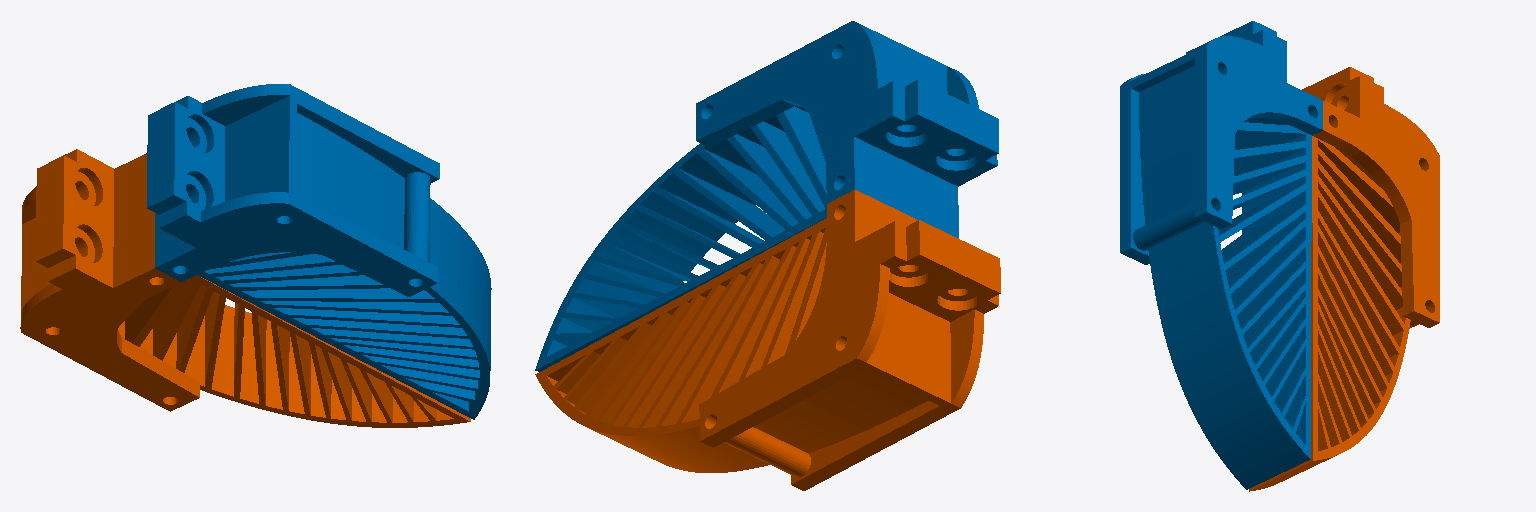
The robot description file, URDF, robot "fr3":
<?xml version="1.0" ?>
<!-- =================================================================================== -->
<!-- |    This document was autogenerated by xacro from /workspaces/src/./franka_description_fr3/robots/fr3/fr3.urdf.xacro | -->
<!-- |    EDITING THIS FILE BY HAND IS NOT RECOMMENDED                                 | -->
<!-- =================================================================================== -->
<robot name="fr3">
  <!-- safety_distance: Minimum safety distance in [m] by which the collision volumes are expanded and which is enforced during robot motions -->
  <!-- arm_id: Namespace of the robot arm. Serves to differentiate between arms in case of multiple instances. -->
  <!-- joint_limits: description of the joint limits that comes from a YAML file. Example definition: ${xacro.load_yaml('$(find ./franka_description_fr3)/robots/fr3/joint_limits.yaml')} -->
  <!-- kinematics: description of the kinematics that comes from a YAML file. Example definition: ${xacro.load_yaml('$(find ./franka_description_fr3)/robots/fr3/kinematics.yaml')} -->
  <!-- inertials: description of the inertials that comes from a YAML file. Example definition: ${xacro.load_yaml('$(find ./franka_description_fr3)/robots/fr3/inertials.yaml')} -->
  <!-- dynamics: description of the dynamics that comes from a YAML file. Example definition: ${xacro.load_yaml('$(find ./franka_description_fr3)/robots/fr3/dynamics.yaml')} -->
  <link name="base">
      </link>
  <joint name="base_joint" type="fixed">
    <parent link="base"/>
    <child link="fr3_link0"/>
    <origin rpy="0 0 0" xyz="0 0 0"/>
  </joint>
  <!-- sub-link defining detailed meshes for collision with environment -->
  <link name="fr3_link0">
    <visual name="fr3_link0_visual">
      <geometry>
        <mesh filename="./franka_description_fr3/meshes/robot_arms/fr3/visual/link0.dae"/>
      </geometry>
    </visual>
    <collision name="fr3_link0_collision">
      <geometry>
        <mesh filename="./franka_description_fr3/meshes/robot_arms/fr3/collision/link0.stl"/>
      </geometry>
    </collision>
    <inertial>
      <origin rpy="0 0 0" xyz="-0.0172 0.0004 0.0745"/>
      <mass value="2.3966"/>
      <inertia ixx="0.009" ixy="0.0" ixz="0.002" iyy="0.0115" iyz="0.0" izz="0.0085"/>
    </inertial>
  </link>
  <!-- sub-link defining detailed meshes for collision with environment -->
  <link name="fr3_link1">
    <visual name="fr3_link1_visual">
      <geometry>
        <mesh filename="./franka_description_fr3/meshes/robot_arms/fr3/visual/link1.dae"/>
      </geometry>
    </visual>
    <collision name="fr3_link1_collision">
      <geometry>
        <mesh filename="./franka_description_fr3/meshes/robot_arms/fr3/collision/link1.stl"/>
      </geometry>
    </collision>
    <inertial>
      <origin rpy="0 0 0" xyz="0.0000004128 -0.0181251324 -0.0386035970"/>
      <mass value="2.9274653454"/>
      <inertia ixx="0.023927316485107913" ixy="1.3317903455714081e-05" ixz="-0.00011404774918616684" iyy="0.0224821613275756" iyz="-0.0019950320628240115" izz="0.006350098258530016"/>
    </inertial>
  </link>
  <joint name="fr3_joint1" type="revolute">
    <origin rpy="0 0 0" xyz="0 0 0.333"/>
    <parent link="fr3_link0"/>
    <child link="fr3_link1"/>
    <axis xyz="0 0 1"/>
    <limit effort="87.0" lower="-2.7437" upper="2.7437" velocity="2.62"/>
    <safety_controller k_position="100.0" k_velocity="40.0" soft_lower_limit="-2.7437" soft_upper_limit="2.7437"/>
    <dynamics D="1" K="7000" damping="0.003" friction="0.2" mu_coulomb="0" mu_viscous="16"/>
  </joint>
  <!-- sub-link defining detailed meshes for collision with environment -->
  <link name="fr3_link2">
    <visual name="fr3_link2_visual">
      <geometry>
        <mesh filename="./franka_description_fr3/meshes/robot_arms/fr3/visual/link2.dae"/>
      </geometry>
    </visual>
    <collision name="fr3_link2_collision">
      <geometry>
        <mesh filename="./franka_description_fr3/meshes/robot_arms/fr3/collision/link2.stl"/>
      </geometry>
    </collision>
    <inertial>
      <origin rpy="0 0 0" xyz="0.0031828864 -0.0743221644 0.0088146084"/>
      <mass value="2.9355370338"/>
      <inertia ixx="0.041938946257609425" ixy="0.00020257331521090626" ixz="0.004077784227179924" iyy="0.02514514885014724" iyz="-0.0042252158006570156" izz="0.06170214472888839"/>
    </inertial>
  </link>
  <joint name="fr3_joint2" type="revolute">
    <origin rpy="-1.570796326794897 0 0" xyz="0 0 0"/>
    <parent link="fr3_link1"/>
    <child link="fr3_link2"/>
    <axis xyz="0 0 1"/>
    <limit effort="87.0" lower="-1.7837" upper="1.7837" velocity="2.62"/>
    <safety_controller k_position="100.0" k_velocity="40.0" soft_lower_limit="-1.7837" soft_upper_limit="1.7837"/>
    <dynamics D="1" K="7000" damping="0.003" friction="0.2" mu_coulomb="0" mu_viscous="16"/>
  </joint>
  <!-- sub-link defining detailed meshes for collision with environment -->
  <link name="fr3_link3">
    <visual name="fr3_link3_visual">
      <geometry>
        <mesh filename="./franka_description_fr3/meshes/robot_arms/fr3/visual/link3.dae"/>
      </geometry>
    </visual>
    <collision name="fr3_link3_collision">
      <geometry>
        <mesh filename="./franka_description_fr3/meshes/robot_arms/fr3/collision/link3.stl"/>
      </geometry>
    </collision>
    <inertial>
      <origin rpy="0 0 0" xyz="0.0407015686 -0.0048200565 -0.0289730823"/>
      <mass value="2.2449013699"/>
      <inertia ixx="0.02410142547240885" ixy="0.002404694559042109" ixz="-0.002856269270114313" iyy="0.01974053266708178" iyz="-0.002104212683891874" izz="0.019044494482244823"/>
    </inertial>
  </link>
  <joint name="fr3_joint3" type="revolute">
    <origin rpy="1.570796326794897 0 0" xyz="0 -0.316 0"/>
    <parent link="fr3_link2"/>
    <child link="fr3_link3"/>
    <axis xyz="0 0 1"/>
    <limit effort="87.0" lower="-2.9007" upper="2.9007" velocity="2.62"/>
    <safety_controller k_position="100.0" k_velocity="40.0" soft_lower_limit="-2.9007" soft_upper_limit="2.9007"/>
    <dynamics D="1" K="7000" damping="0.003" friction="0.2" mu_coulomb="0" mu_viscous="16"/>
  </joint>
  <!-- sub-link defining detailed meshes for collision with environment -->
  <link name="fr3_link4">
    <visual name="fr3_link4_visual">
      <geometry>
        <mesh filename="./franka_description_fr3/meshes/robot_arms/fr3/visual/link4.dae"/>
      </geometry>
    </visual>
    <collision name="fr3_link4_collision">
      <geometry>
        <mesh filename="./franka_description_fr3/meshes/robot_arms/fr3/collision/link4.stl"/>
      </geometry>
    </collision>
    <inertial>
      <origin rpy="0 0 0" xyz="-0.0459100965 0.0630492960 -0.0085187868"/>
      <mass value="2.6155955791"/>
      <inertia ixx="0.03452998321913202" ixy="0.01322552265982813" ixz="0.01015142998484113" iyy="0.028881621933049058" iyz="-0.0009762833870704552" izz="0.04125471171146641"/>
    </inertial>
  </link>
  <joint name="fr3_joint4" type="revolute">
    <origin rpy="1.570796326794897 0 0" xyz="0.0825 0 0"/>
    <parent link="fr3_link3"/>
    <child link="fr3_link4"/>
    <axis xyz="0 0 1"/>
    <limit effort="87.0" lower="-3.0421" upper="-0.1518" velocity="2.62"/>
    <safety_controller k_position="100.0" k_velocity="40.0" soft_lower_limit="-3.0421" soft_upper_limit="-0.1518"/>
    <dynamics D="1" K="7000" damping="0.003" friction="0.2" mu_coulomb="0" mu_viscous="16"/>
  </joint>
  <!-- sub-link defining detailed meshes for collision with environment -->
  <link name="fr3_link5">
    <visual name="fr3_link5_visual">
      <geometry>
        <mesh filename="./franka_description_fr3/meshes/robot_arms/fr3/visual/link5.dae"/>
      </geometry>
    </visual>
    <collision name="fr3_link5_collision">
      <geometry>
        <mesh filename="./franka_description_fr3/meshes/robot_arms/fr3/collision/link5.stl"/>
      </geometry>
    </collision>
    <inertial>
      <origin rpy="0 0 0" xyz="-0.0016039605 0.0292536262 -0.0972965990"/>
      <mass value="2.3271207594"/>
      <inertia ixx="0.051610278463662895" ixy="-0.005715173387783472" ixz="-0.0035673167625872135" iyy="0.04787729713371481" iyz="0.010673985108535986" izz="0.016423625579357254"/>
    </inertial>
  </link>
  <joint name="fr3_joint5" type="revolute">
    <origin rpy="-1.570796326794897 0 0" xyz="-0.0825 0.384 0"/>
    <parent link="fr3_link4"/>
    <child link="fr3_link5"/>
    <axis xyz="0 0 1"/>
    <limit effort="12.0" lower="-2.8065" upper="2.8065" velocity="5.26"/>
    <safety_controller k_position="100.0" k_velocity="40.0" soft_lower_limit="-2.8065" soft_upper_limit="2.8065"/>
    <dynamics D="1" K="7000" damping="0.003" friction="0.2" mu_coulomb="0" mu_viscous="16"/>
  </joint>
  <!-- sub-link defining detailed meshes for collision with environment -->
  <link name="fr3_link6">
    <visual name="fr3_link6_visual">
      <geometry>
        <mesh filename="./franka_description_fr3/meshes/robot_arms/fr3/visual/link6.dae"/>
      </geometry>
    </visual>
    <collision name="fr3_link6_collision">
      <geometry>
        <mesh filename="./franka_description_fr3/meshes/robot_arms/fr3/collision/link6.stl"/>
      </geometry>
    </collision>
    <inertial>
      <origin rpy="0 0 0" xyz="0.0597131221 -0.0410294666 -0.0101692726"/>
      <mass value="1.8170376524"/>
      <inertia ixx="0.005412333594383447" ixy="0.006193456360285834" ixz="0.0014219289306117652" iyy="0.014058329545509979" iyz="-0.0013140753741120031" izz="0.016080817924212554"/>
    </inertial>
  </link>
  <joint name="fr3_joint6" type="revolute">
    <origin rpy="1.570796326794897 0 0" xyz="0 0 0"/>
    <parent link="fr3_link5"/>
    <child link="fr3_link6"/>
    <axis xyz="0 0 1"/>
    <limit effort="12.0" lower="0.5445" upper="4.5169" velocity="4.18"/>
    <safety_controller k_position="100.0" k_velocity="40.0" soft_lower_limit="0.5445" soft_upper_limit="4.5169"/>
    <dynamics D="1" K="7000" damping="0.003" friction="0.2" mu_coulomb="0" mu_viscous="16"/>
  </joint>
  <!-- sub-link defining detailed meshes for collision with environment -->
  <link name="fr3_link7">
    <visual name="fr3_link7_visual">
      <geometry>
        <mesh filename="./franka_description_fr3/meshes/robot_arms/fr3/visual/link7.dae"/>
      </geometry>
    </visual>
    <collision name="fr3_link7_collision">
      <geometry>
        <mesh filename="./franka_description_fr3/meshes/robot_arms/fr3/collision/link7.stl"/>
      </geometry>
    </collision>
    <inertial>
      <origin rpy="0 0 0" xyz="0.0045225817 0.0086261921 -0.0161633251"/>
      <mass value="0.6271432862"/>
      <inertia ixx="0.00021092389150104718" ixy="-2.433299114461931e-05" ixz="4.564480393778983e-05" iyy="0.00017718568002411474" iyz="8.744070223226438e-05" izz="5.993190599659971e-05"/>
    </inertial>
  </link>
  <joint name="fr3_joint7" type="revolute">
    <origin rpy="1.570796326794897 0 0" xyz="0.088 0 0"/>
    <parent link="fr3_link6"/>
    <child link="fr3_link7"/>
    <axis xyz="0 0 1"/>
    <limit effort="12.0" lower="-3.0159" upper="3.0159" velocity="5.26"/>
    <safety_controller k_position="100.0" k_velocity="40.0" soft_lower_limit="-3.0159" soft_upper_limit="3.0159"/>
    <dynamics D="1" K="7000" damping="0.003" friction="0.2" mu_coulomb="0" mu_viscous="16"/>
  </joint>
  <link name="fr3_link8"/>
  <joint name="fr3_joint8" type="fixed">
    <origin rpy="0 0 0" xyz="0 0 0.107"/>
    <parent link="fr3_link7"/>
    <child link="fr3_link8"/>
  </joint>
  <joint name="fr3_hand_joint" type="fixed">
    <parent link="fr3_link8"/>
    <child link="fr3_hand"/>
    <origin rpy="0 0 -0.7853981633974483" xyz="0 0 0"/>
  </joint>
  <!-- sub-link defining detailed meshes for collision with environment -->
  <link name="fr3_hand">
    <visual name="fr3_hand_visual">
      <geometry>
        <mesh filename="./franka_description_fr3/meshes/robot_ee/franka_hand_white/visual/hand.dae"/>
      </geometry>
    </visual>
    <collision name="fr3_hand_collision">
      <geometry>
        <mesh filename="./franka_description_fr3/meshes/robot_ee/franka_hand_white/collision/hand.stl"/>
      </geometry>
    </collision>
    <inertial>
      <origin rpy="0 0 0" xyz="-0.01 0 0.03"/>
      <mass value="0.73"/>
      <inertia ixx="0.001" ixy="0" ixz="0" iyy="0.0025" iyz="0" izz="0.0017"/>
    </inertial>
  </link>
  <!-- Define the hand_tcp frame -->
  <link name="fr3_hand_tcp"/>
  <joint name="fr3_hand_tcp_joint" type="fixed">
    <origin rpy="0 0 0" xyz="0 0 0.1034"/>
    <parent link="fr3_hand"/>
    <child link="fr3_hand_tcp"/>
  </joint>
  <link name="fr3_leftfinger">
    <visual name="fr3_leftfinger_visual">
      <geometry>
        <mesh filename="./franka_description_fr3/meshes/visual/umi_finger_short.stl"/>
      </geometry>
    </visual>
    <collision>
      <geometry>
        <mesh filename="./franka_description_fr3/meshes/collision/umi_finger_short.stl"/>
      </geometry>
    </collision>
  </link>
  <link name="fr3_rightfinger">
    <visual name="fr3_rightfinger_visual">
      <origin rpy="0 0 3.141592653589793" xyz="0 0 0"/>
      <geometry>
        <mesh filename="./franka_description_fr3/meshes/visual/umi_finger_short.stl"/>
      </geometry>
    </visual>
    <collision>
      <origin rpy="0 0 3.141592653589793" xyz="0 0 0"/>
      <geometry>
        <mesh filename="./franka_description_fr3/meshes/collision/umi_finger_short.stl"/>
      </geometry>
    </collision>
  </link>
  <joint name="fr3_finger_joint1" type="prismatic">
    <parent link="fr3_hand"/>
    <child link="fr3_leftfinger"/>
    <origin rpy="0 0 0" xyz="0 0 0.0584"/>
    <axis xyz="0 1 0"/>
    <limit effort="20" lower="0.0" upper="0.04" velocity="0.2"/>
    <dynamics damping="0.3"/>
  </joint>
  <joint name="fr3_finger_joint2" type="prismatic">
    <parent link="fr3_hand"/>
    <child link="fr3_rightfinger"/>
    <origin rpy="0 0 0" xyz="0 0 0.0584"/>
    <axis xyz="0 -1 0"/>
    <limit effort="20" lower="0.0" upper="0.04" velocity="0.2"/>
    <mimic joint="fr3_finger_joint1"/>
    <dynamics damping="0.3"/>
  </joint>
</robot>

--- What the picture shows (computed from the rendered views, not written in the file) ---
Views: 3 orthographic renders of the robot side by side, from view 1: azimuth 30°, elevation 25°; view 2: azimuth 150°, elevation 25°; view 3: azimuth 270°, elevation 25°.
Model fr3 with 14 links and 13 joints (7 revolute, 2 prismatic, 4 fixed), rooted at base, posed joints at zero except 2 at the middle of their limits (fr3_joint4 = -1.6, fr3_joint6 = 2.53).
Visible links, largest first — view 1: fr3_leftfinger, fr3_rightfinger; view 2: fr3_rightfinger, fr3_leftfinger; view 3: fr3_leftfinger, fr3_rightfinger.
Boxes of the visible links, x1=… form: fr3_leftfinger: x1=147, y1=84, x2=491, y2=419; fr3_rightfinger: x1=20, y1=149, x2=470, y2=427; fr3_rightfinger: x1=535, y1=189, x2=1000, y2=490; fr3_leftfinger: x1=535, y1=21, x2=998, y2=371; fr3_leftfinger: x1=1120, y1=21, x2=1322, y2=489; fr3_rightfinger: x1=1249, y1=67, x2=1439, y2=491.
Bounding box of the posed robot: 0.0996 × 0.0706 × 0.0895 m (x, y, z).
Meshes: 10 distinct files referenced, 2 mesh visuals loaded (1 binary STL); not drawn: 9 (reference not matched to a file when rendering).